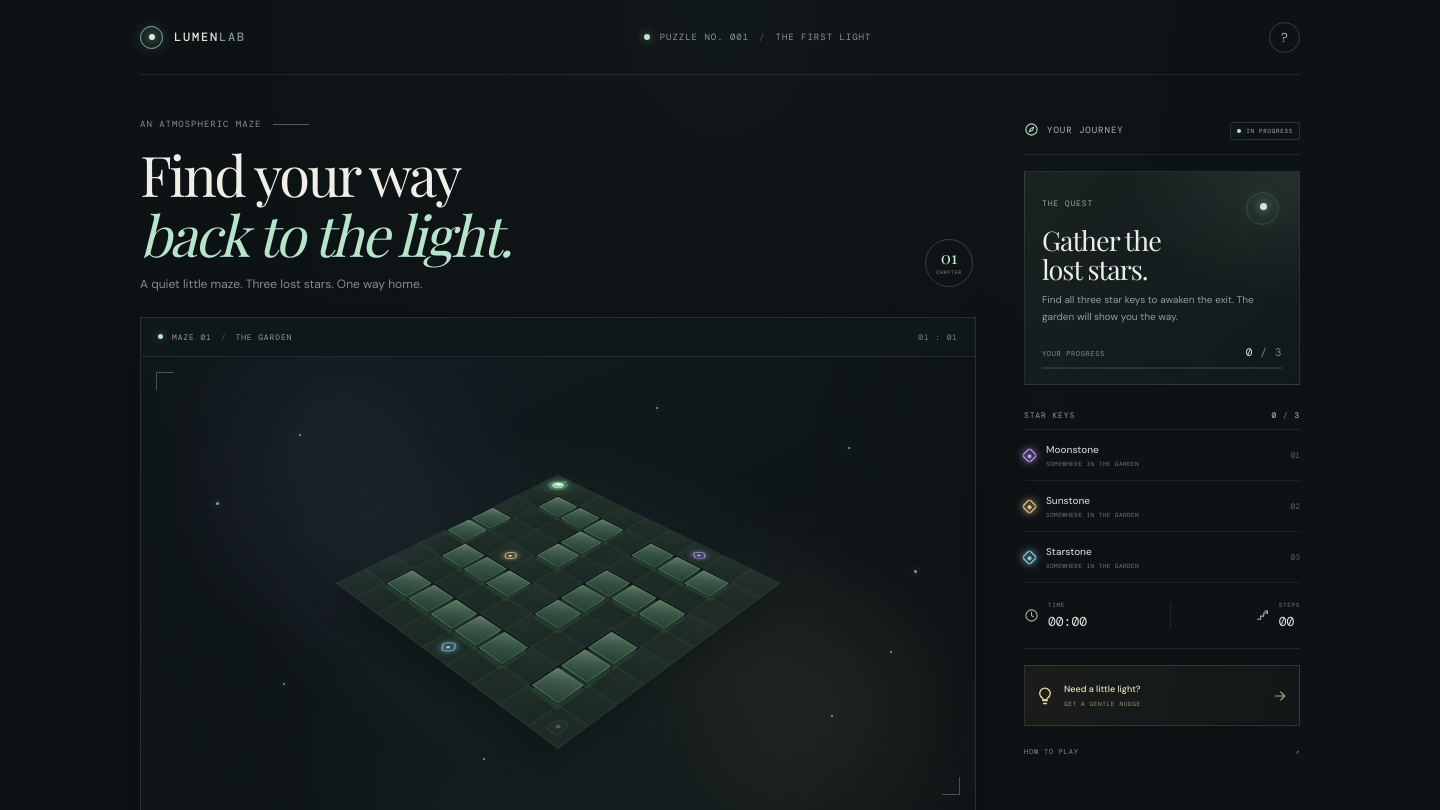
offers a hint without moving the player automatically
Click the button "Need a little light? GET A GENTLE NUDGE".
click(1102, 689)  # box [1024, 665, 1300, 726]
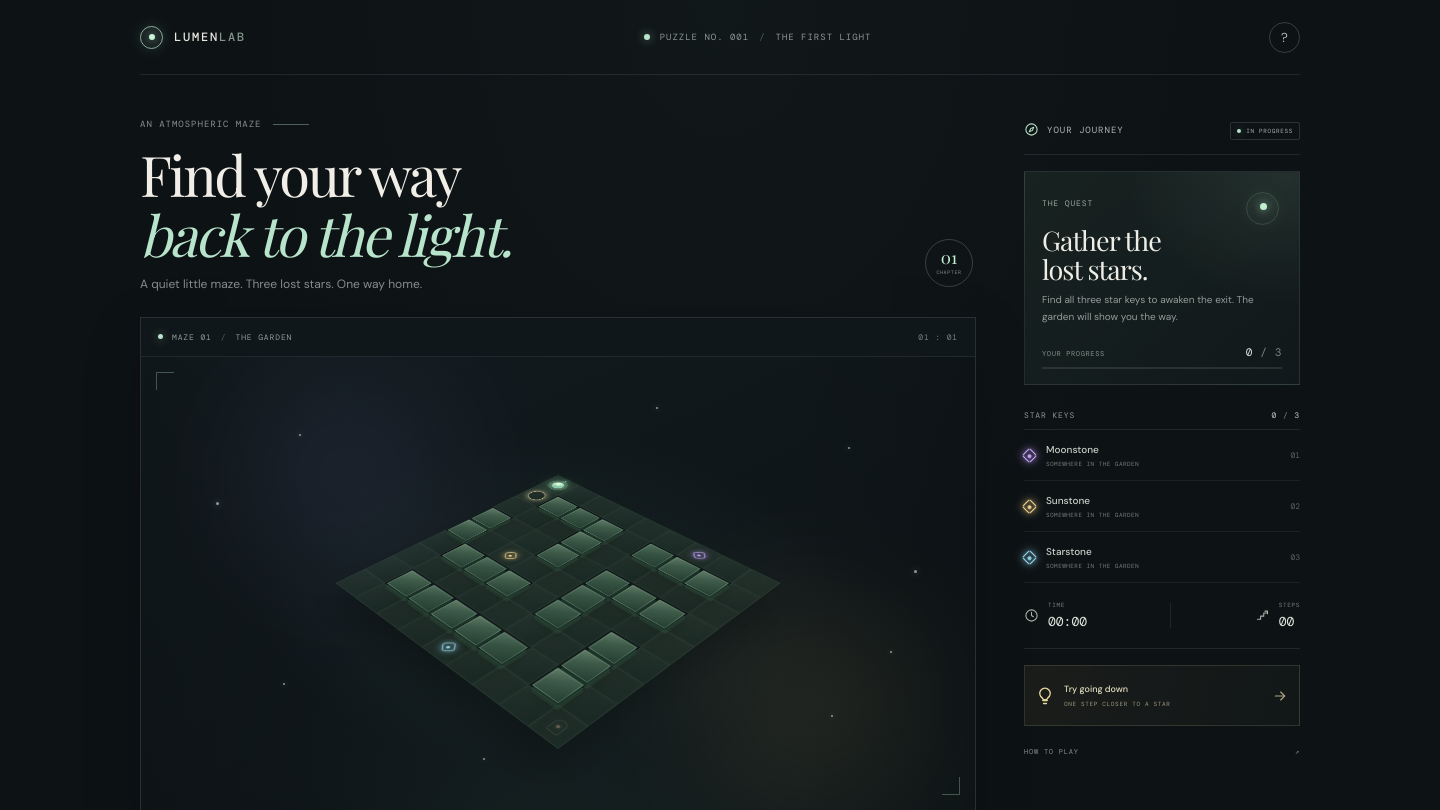
Expected: the text "00" is shown, [1279, 613, 1294, 630]
Now the button "Try going down ONE STEP CLOSER TO A STAR" is shown, box [1024, 665, 1300, 726]
